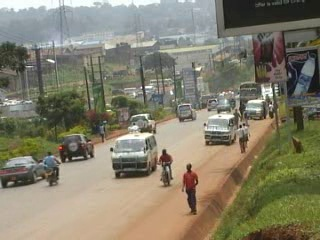Car: (0, 151, 49, 191), (54, 133, 98, 165), (124, 109, 159, 134), (213, 98, 231, 113), (203, 96, 220, 111)
Motorcycle: (41, 151, 63, 187), (156, 150, 177, 187), (124, 120, 143, 135), (229, 96, 238, 112)
